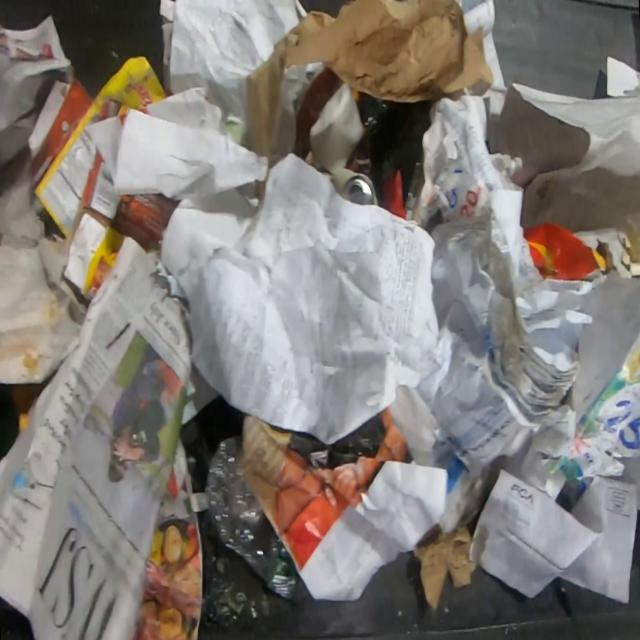cardboard: (25, 54, 186, 305), (412, 503, 486, 610)
metal: (330, 166, 378, 205)
rigid_plastic: (206, 436, 306, 599)
